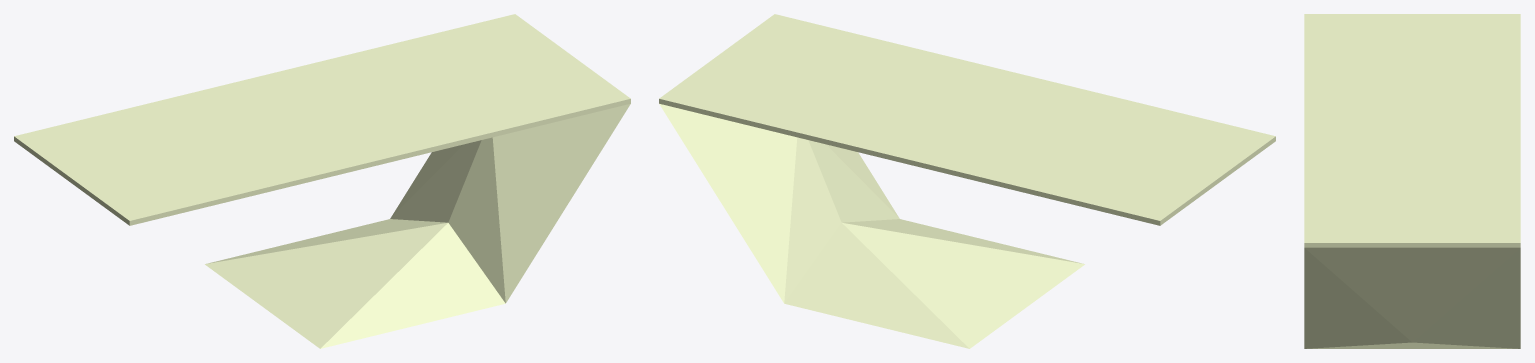
The model's file is desk2.fbx.
The picture shows the model from 3 angles, left to right: view 1: azimuth 30°, elevation 25°; view 2: azimuth 150°, elevation 25°; view 3: azimuth 270°, elevation 25°; orthographic projection. The views are drawn at different scales.
Visible parts, largest first — view 1: Cube; view 2: Cube; view 3: Cube.
Boxes of the visible parts, x1,y1,x2,y2 form: Cube: [14, 14, 630, 348]; Cube: [659, 14, 1275, 348]; Cube: [1304, 14, 1520, 348].
Bounding box in the file's own units: 212 × 70.38 × 84.65.
